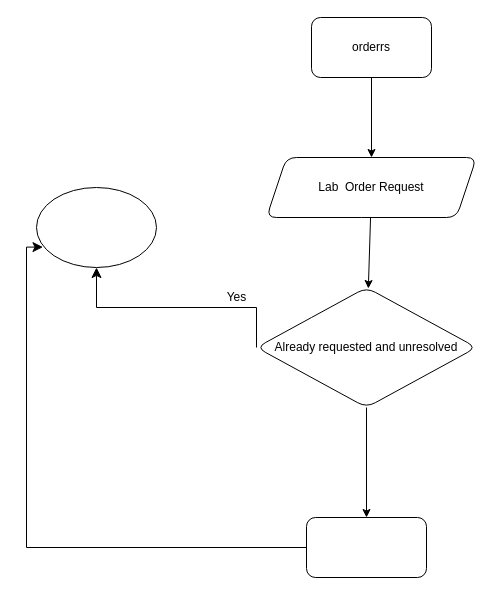
This 494x595 diagram has some shape labels left out. Each missing label, with the centre of its shape:
"Add to the database table" goes at point 366,547.
"Exist" goes at point 96,227.
